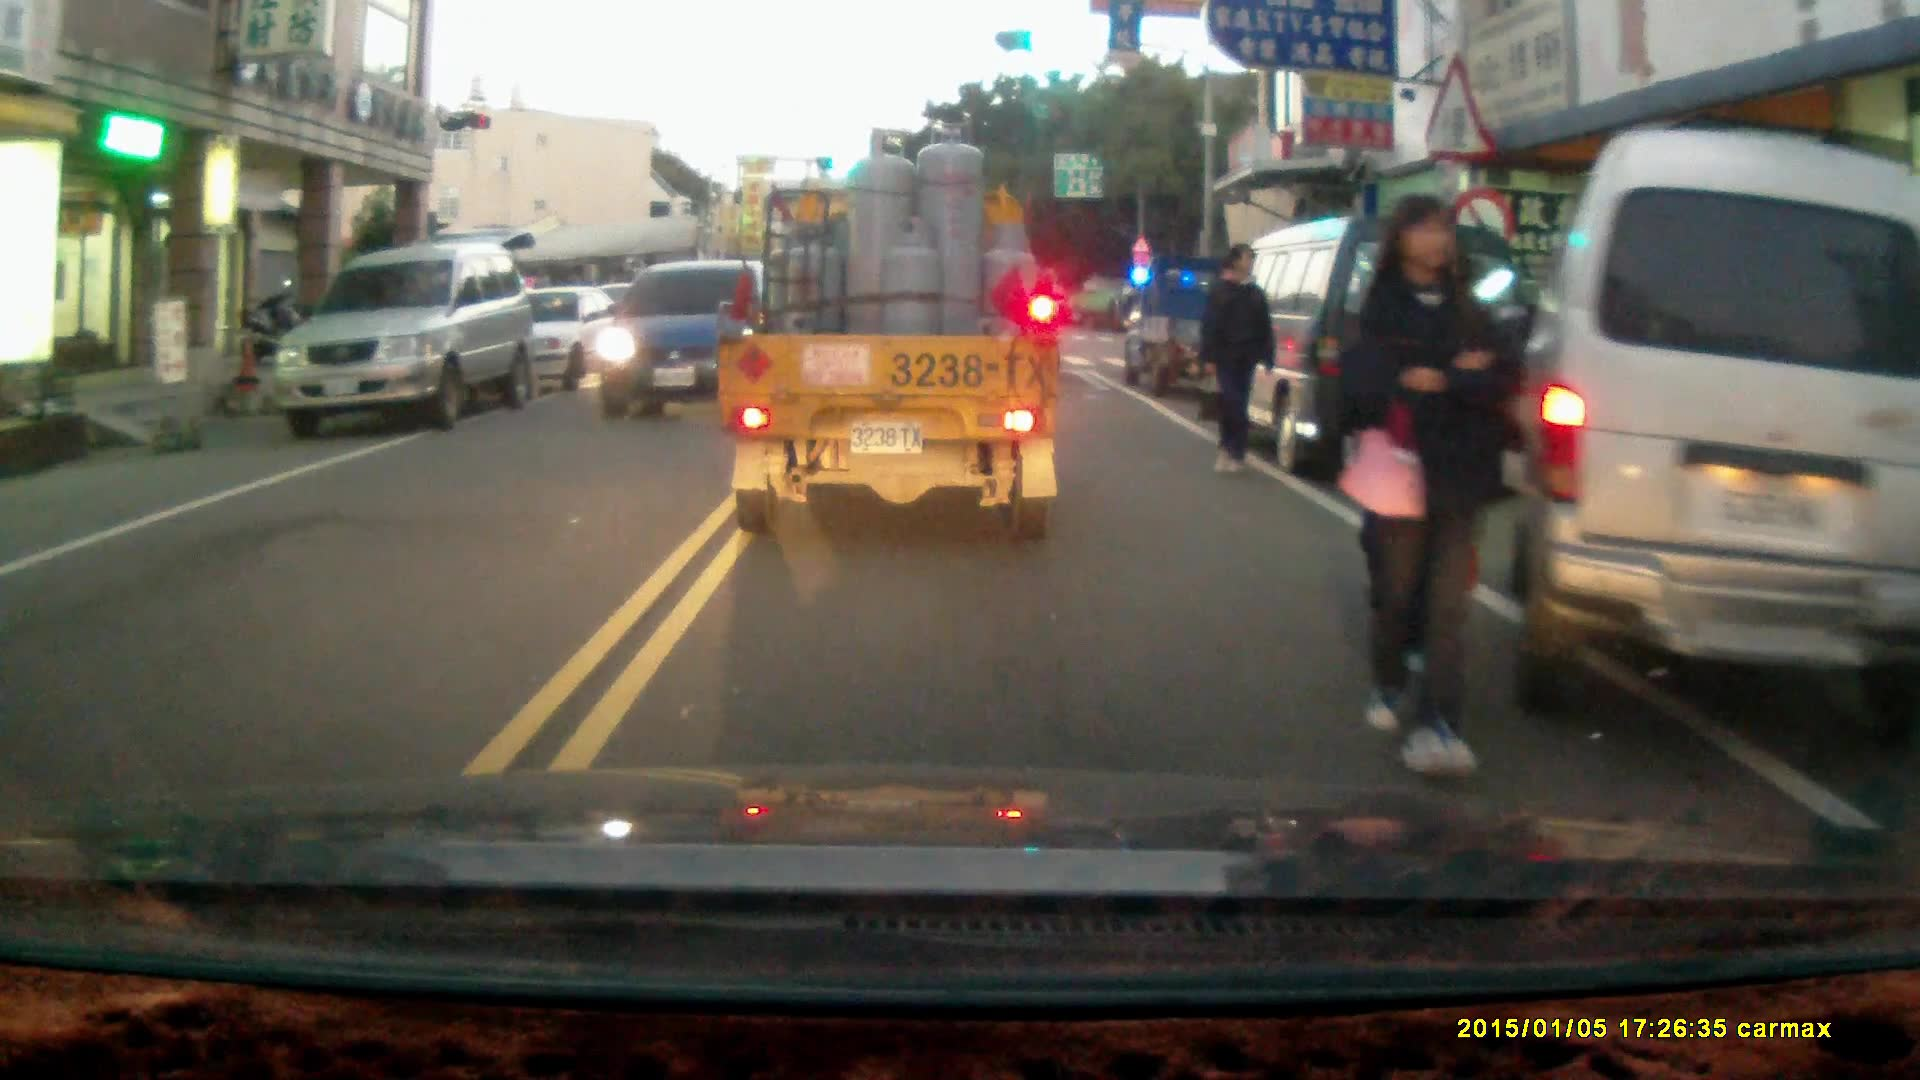pedestrian: (1350, 190, 1516, 777), (1194, 239, 1277, 476)
vehicle: (1510, 122, 1908, 739), (714, 130, 1060, 534), (1207, 210, 1535, 490), (278, 245, 541, 443), (589, 262, 772, 419), (1122, 250, 1243, 399), (472, 287, 632, 400)
